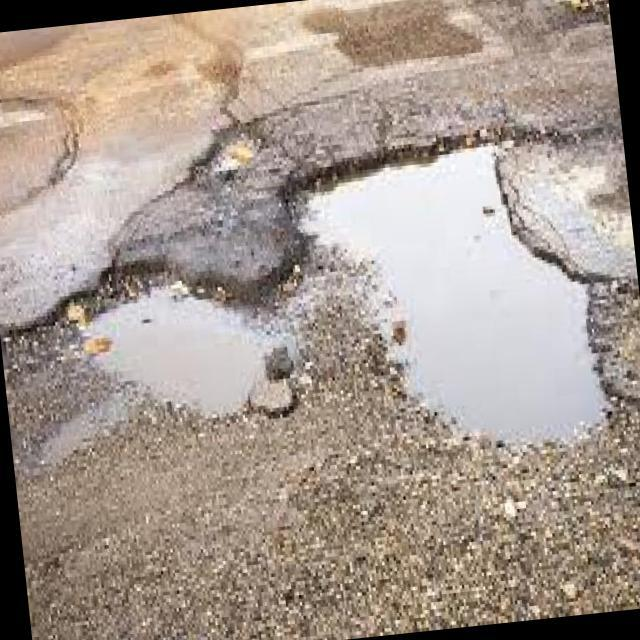Pothole: (293, 145, 612, 449), (81, 294, 298, 418)
